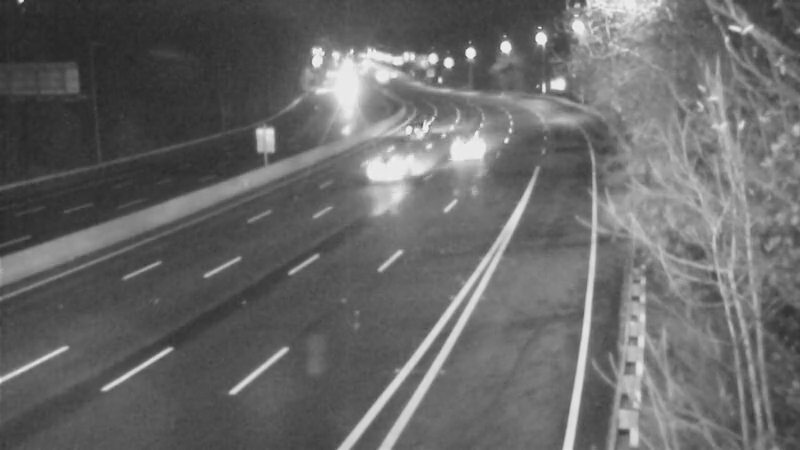vehicle: (425, 111, 505, 191), (350, 127, 430, 207), (390, 103, 440, 153)
